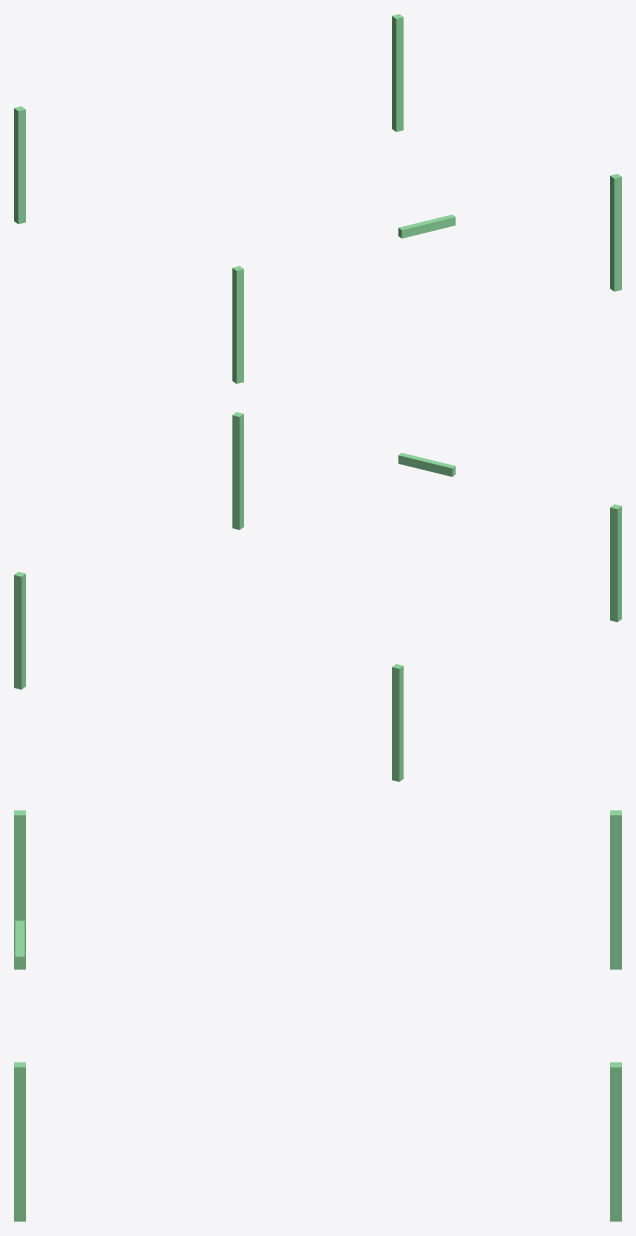
The model's file is accent-3.glb.
3 renders of one model, top to bottom at view 1: azimuth 30°, elevation 25°; view 2: azimuth 150°, elevation 25°; view 3: azimuth 270°, elevation 25°, orthographic. The views are drawn at different scales.
Visible parts, largest first — view 1: accent-3; view 2: accent-3; view 3: accent-3.
Part boxes in pixels (x1,y1,x2,y2): accent-3: (14,14,621,383); accent-3: (14,412,621,781); accent-3: (14,810,621,1221).
Size of the model in its own units: 14.28 by 4 by 14.28.
Materials: 1 (1 with a texture image).
